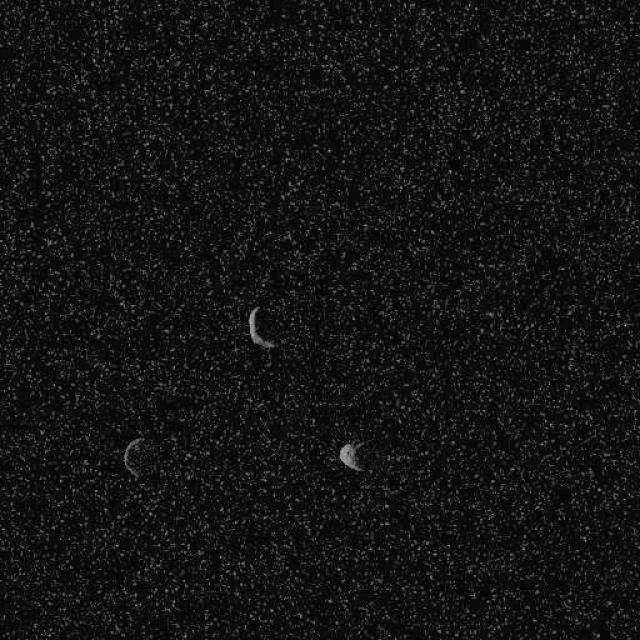D2: (246, 305, 276, 350), (121, 435, 145, 479), (338, 442, 363, 472)
